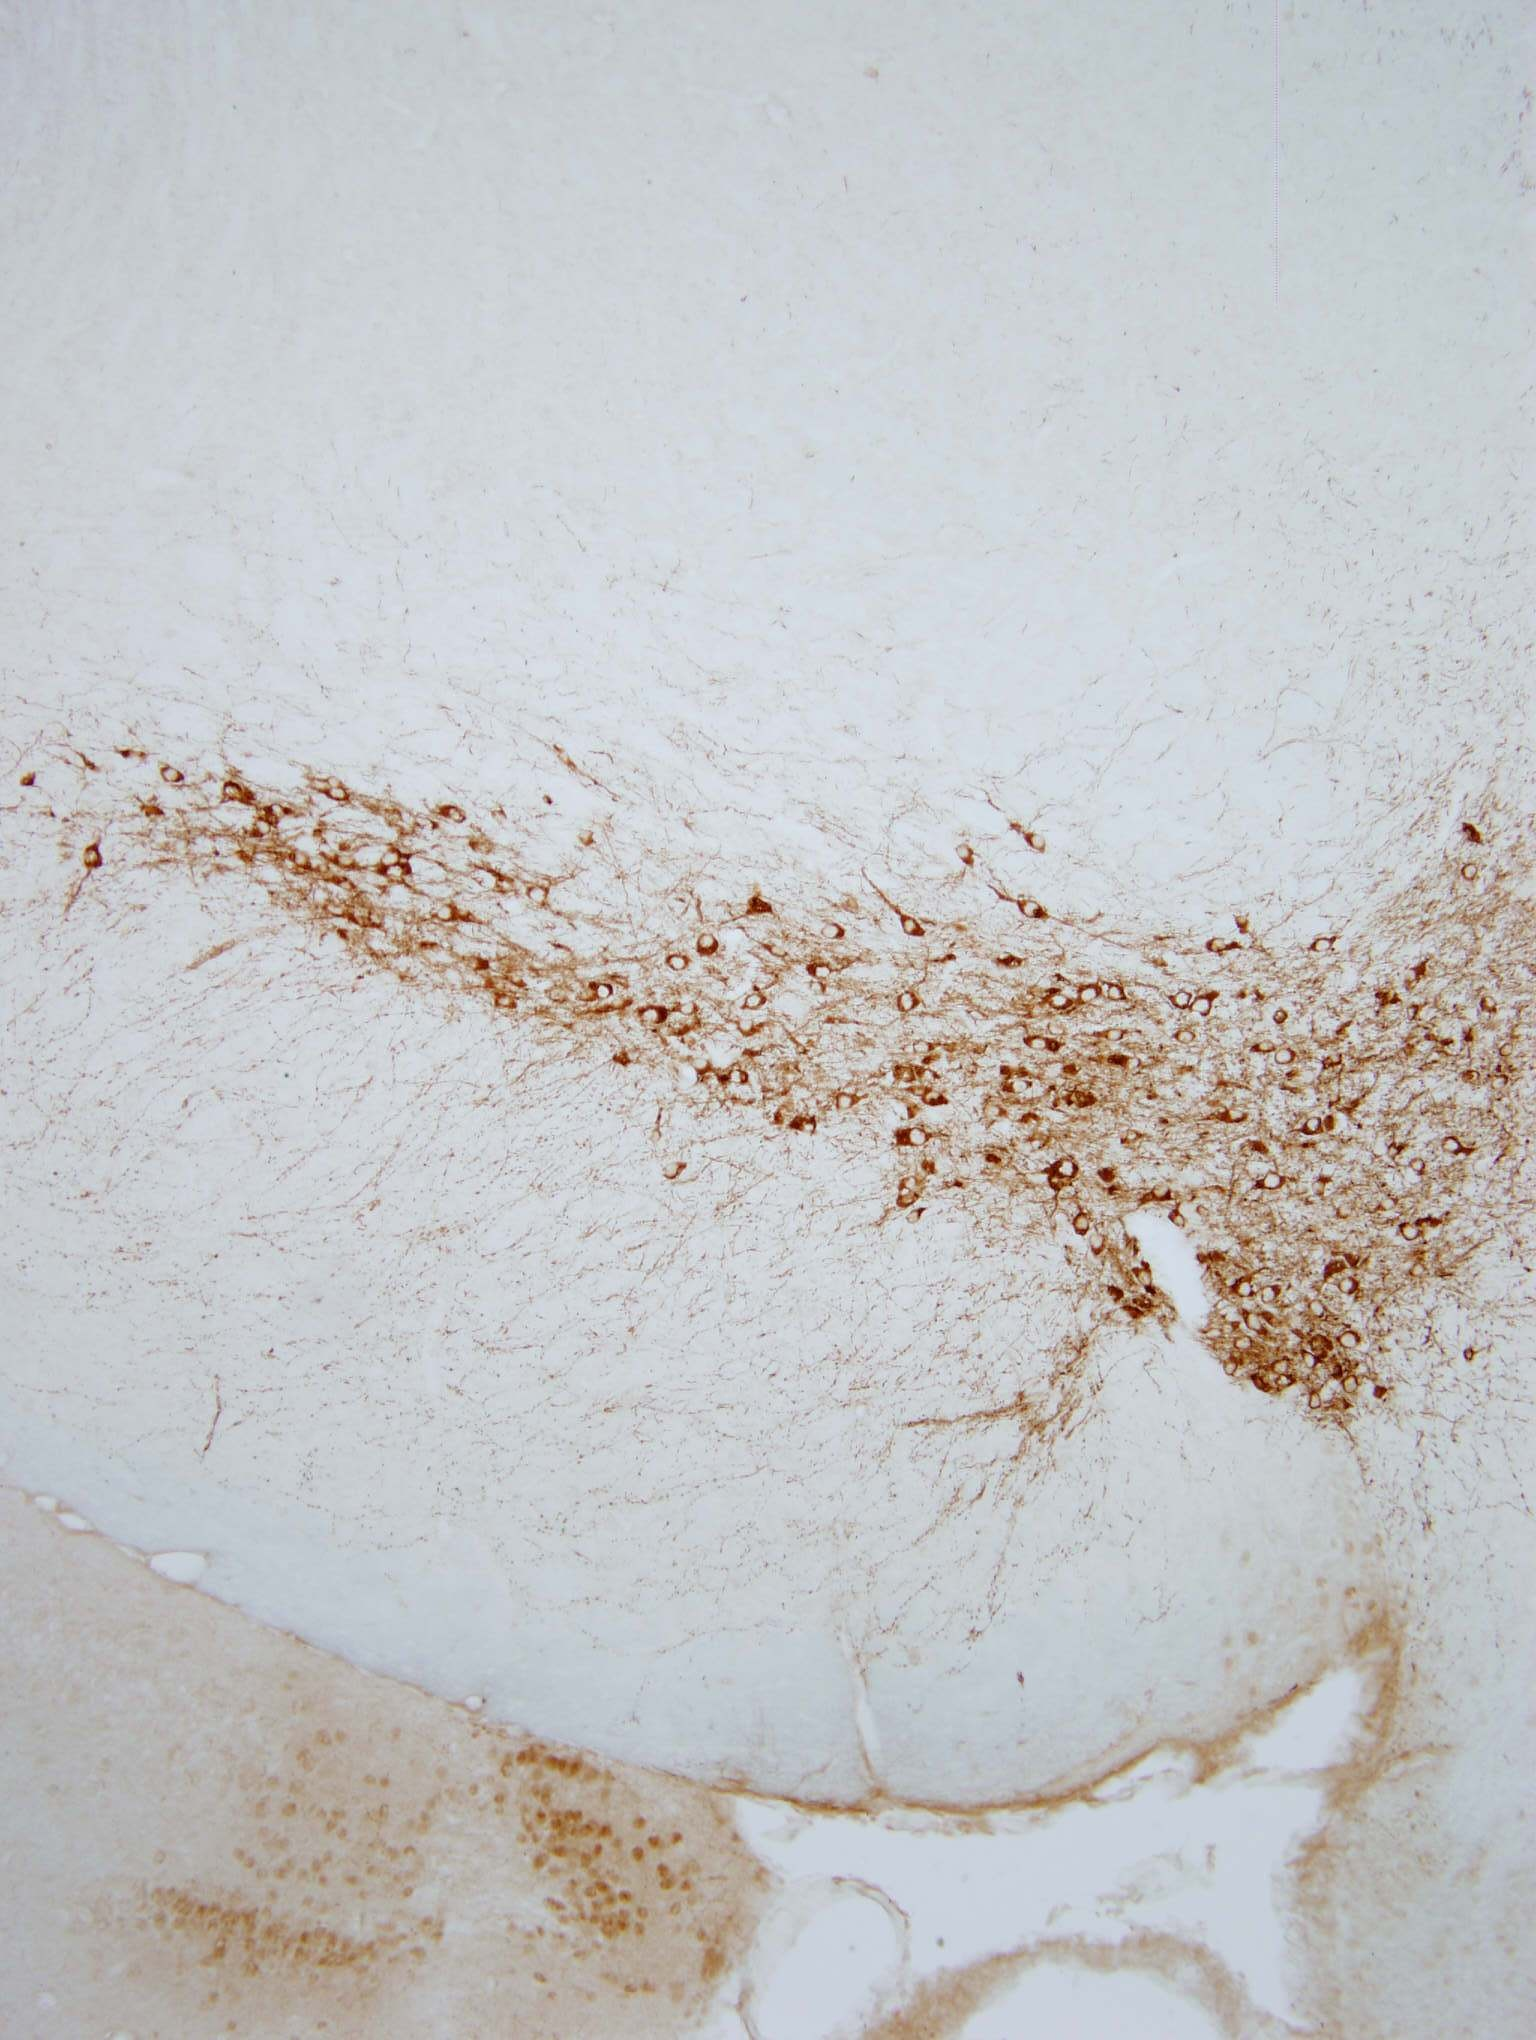neuron: (1238, 1305, 1275, 1342), (153, 756, 190, 793), (73, 839, 110, 876), (912, 1055, 949, 1092), (1041, 980, 1076, 1018), (1100, 974, 1137, 1010), (1108, 1045, 1146, 1080), (1129, 1259, 1165, 1297), (1187, 985, 1225, 1021), (1305, 926, 1341, 963), (1333, 1322, 1368, 1359), (1394, 1213, 1430, 1250), (1438, 1127, 1475, 1163), (218, 776, 253, 813), (436, 793, 471, 831), (521, 877, 557, 914), (636, 997, 671, 1034), (658, 1153, 695, 1189), (691, 927, 728, 963), (892, 906, 928, 943), (1013, 890, 1049, 926), (1020, 824, 1055, 860), (1025, 1026, 1060, 1061), (1071, 974, 1107, 1010), (1142, 1176, 1178, 1211), (1204, 927, 1239, 963), (1255, 1163, 1291, 1198), (1368, 1184, 1404, 1219), (718, 1060, 753, 1095), (737, 984, 773, 1019), (791, 1108, 826, 1143), (816, 913, 852, 948), (891, 984, 926, 1019), (895, 1121, 931, 1156), (1008, 1074, 1033, 1098), (1058, 1156, 1083, 1180), (1104, 1022, 1128, 1047), (1167, 1208, 1191, 1232), (1171, 989, 1196, 1013), (1221, 1356, 1246, 1380), (1225, 1103, 1249, 1127), (1234, 1277, 1258, 1301), (1299, 1348, 1323, 1372), (1302, 1114, 1326, 1139), (1310, 1174, 1334, 1198), (1338, 1274, 1362, 1298), (1383, 1137, 1407, 1161), (1405, 1261, 1430, 1285), (1460, 860, 1484, 884), (1478, 992, 1502, 1016), (253, 818, 278, 842), (266, 798, 290, 822), (290, 848, 315, 872), (323, 769, 347, 793), (326, 785, 350, 810), (336, 851, 360, 876), (337, 872, 361, 897), (384, 863, 408, 887), (592, 980, 616, 1005), (666, 951, 691, 976), (691, 1053, 715, 1077), (737, 1016, 762, 1040), (766, 939, 791, 963), (810, 960, 834, 984), (902, 1169, 926, 1193), (905, 1206, 929, 1230), (907, 1082, 931, 1106), (913, 1034, 937, 1058), (925, 1087, 949, 1111), (954, 842, 978, 866), (1070, 1213, 1094, 1235), (1087, 1234, 1112, 1256), (1175, 1026, 1199, 1048), (1254, 1034, 1276, 1058), (1260, 1284, 1284, 1306), (1270, 1355, 1294, 1377), (1275, 1043, 1297, 1068), (1275, 1372, 1297, 1397), (1307, 1300, 1331, 1322), (1407, 1155, 1431, 1177), (1489, 1071, 1513, 1093), (379, 847, 403, 869), (436, 901, 458, 926), (495, 992, 520, 1014), (678, 997, 700, 1021), (836, 1090, 858, 1114), (1233, 1334, 1255, 1356)
